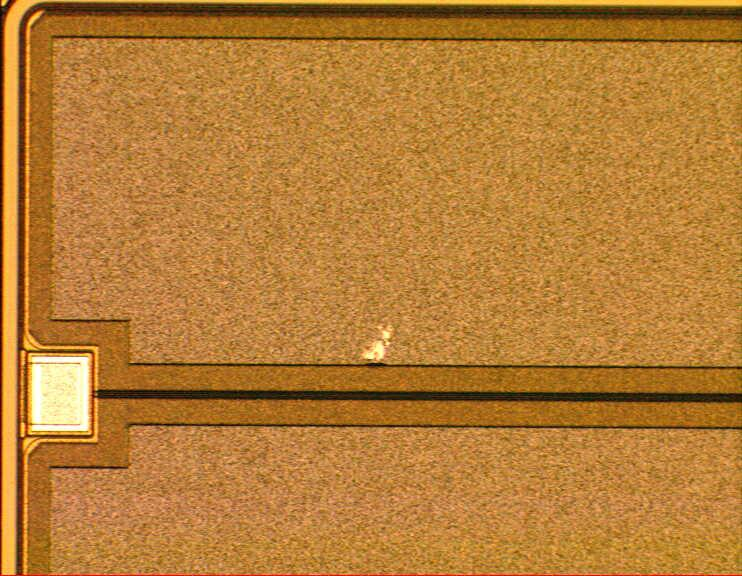SCRATCH: (356, 310, 408, 373)
